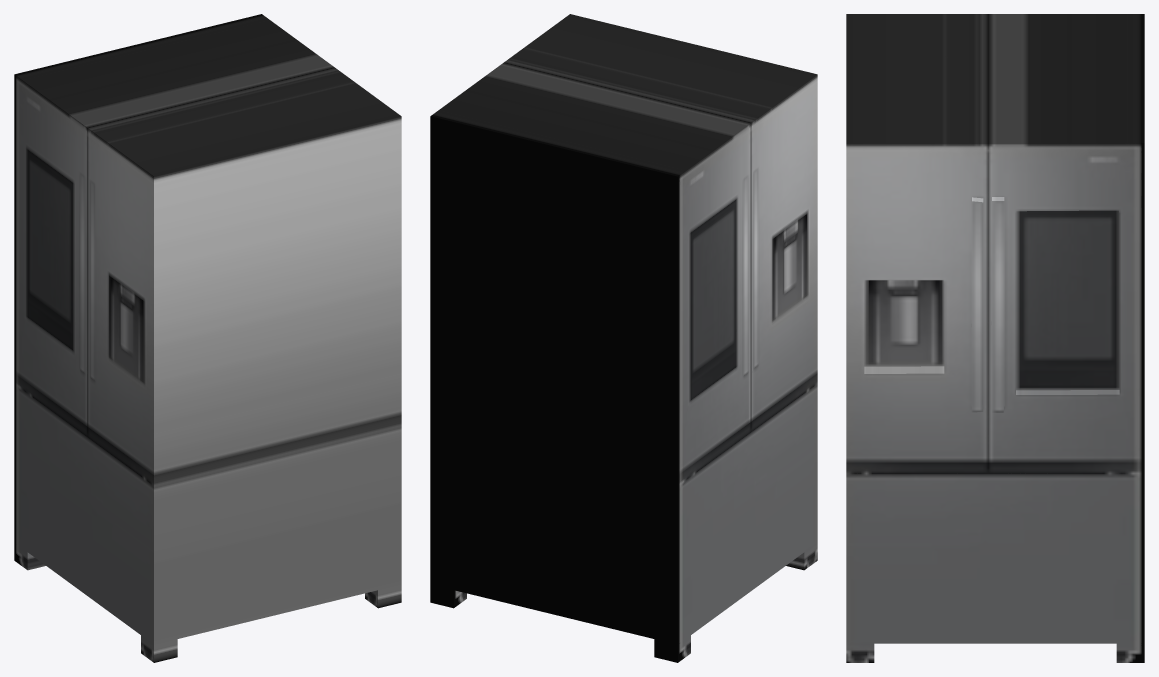
Rendered from fridge.fbx.
3 renders of one model, left to right at view 1: azimuth 30°, elevation 25°; view 2: azimuth 150°, elevation 25°; view 3: azimuth 270°, elevation 25°, orthographic. The views are drawn at different scales.
Visible parts, largest first — view 1: Cube; view 2: Cube; view 3: Cube.
Part boxes in pixels (x1,y1,x2,y2): Cube: (14, 14, 401, 662); Cube: (430, 14, 817, 662); Cube: (846, 14, 1144, 662).
Bounding box in the file's own units: 274 × 500 × 260.
1 material, 1 textured.
